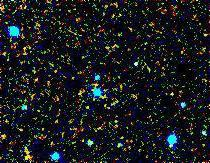star: (18, 144, 48, 163)
